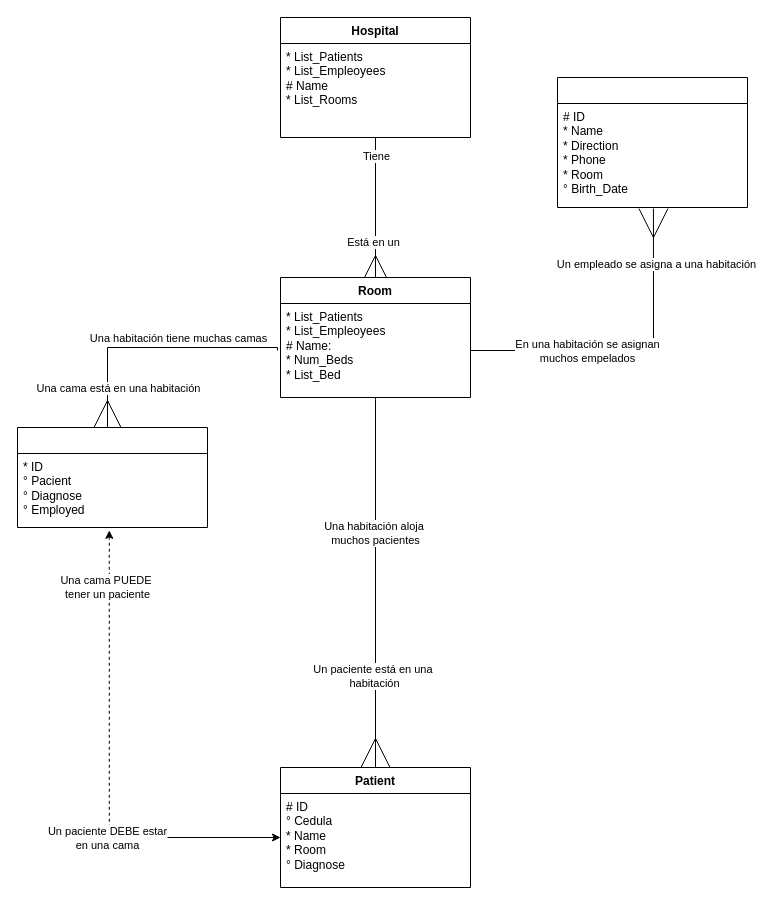
Some shapes in this 774 by 908 pixel diagram are drawn without their labels. Each missing label, with the box of its shape:
Bed: (16, 426, 208, 528)
Employed: (556, 76, 748, 208)
